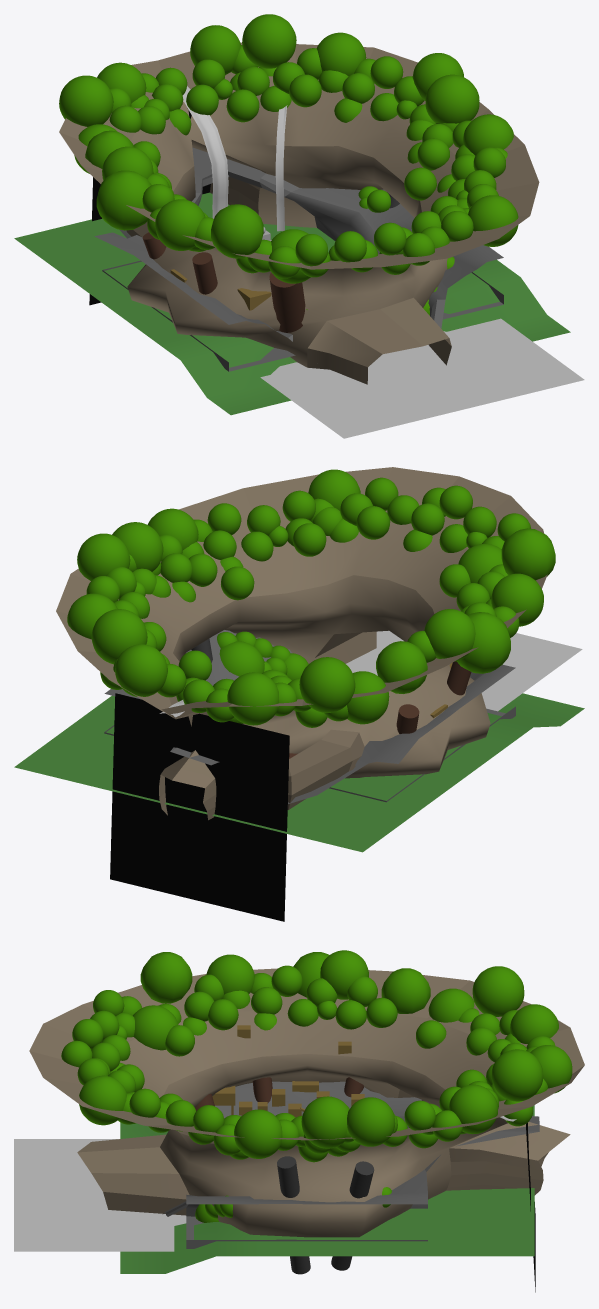
The model's file is Environment_greybox.fbx.
3 views of the same model, one above another, from view 1: azimuth 30°, elevation 25°; view 2: azimuth 150°, elevation 25°; view 3: azimuth 270°, elevation 25° (orthographic). The views are drawn at different scales.
Parts seen in each view (by area): view 1: pSphere1, pPlane1, pPlane3, pSphere47, pSphere46, pCube14, pSphere48, pSphere49, pSphere81, pSphere21, pSphere24, pPlane2 (+8 smaller); view 2: pSphere1, pPlane4, pPlane1, pSphere48, pSphere46, pSphere49, pSphere47, pCube14, pPlane3, pSphere21, pSphere81, pSphere23 (+9 smaller); view 3: pSphere1, pPlane1, pPlane3, pSphere48, pSphere47, pSphere46, pCube14, pSphere49, pSphere21, pSphere22, pSphere23, pSphere52 (+16 smaller).
Boxes of the visible parts, box(x1,y1,x2,y2) form: pSphere1: box(59, 42, 539, 384); pPlane1: box(14, 192, 570, 415); pPlane3: box(260, 318, 584, 438); pSphere47: box(226, 14, 463, 131); pSphere46: box(59, 25, 276, 166); pCube14: box(94, 147, 503, 371); pSphere48: box(406, 74, 518, 246); pSphere49: box(268, 196, 473, 278); pSphere81: box(96, 170, 151, 230); pSphere21: box(211, 204, 263, 258); pSphere24: box(155, 199, 205, 250); pPlane2: box(182, 86, 228, 218); pSphere1: box(56, 467, 547, 820); pPlane4: box(110, 693, 289, 921); pPlane1: box(14, 693, 584, 852); pSphere48: box(112, 469, 360, 602); pSphere46: box(100, 644, 355, 727); pSphere49: box(292, 477, 530, 556); pSphere47: box(67, 533, 211, 680); pCube14: box(104, 630, 515, 803); pPlane3: box(346, 630, 582, 711); pSphere21: box(501, 528, 555, 580); pSphere81: box(457, 612, 510, 673); pSphere23: box(424, 609, 475, 661); pSphere1: box(29, 968, 584, 1237); pPlane1: box(120, 1105, 534, 1273); pPlane3: box(14, 1139, 186, 1251); pSphere48: box(79, 1075, 349, 1162); pSphere47: box(303, 1049, 543, 1153); pSphere46: box(416, 966, 572, 1126); pCube14: box(162, 1081, 539, 1248); pSphere49: box(61, 990, 182, 1124); pSphere21: box(140, 952, 192, 1003); pSphere22: box(381, 968, 430, 1013); pSphere23: box(320, 950, 368, 999); pSphere52: box(133, 1005, 178, 1050).
Size of the model in its own units: 15171 by 9517 by 20272.
